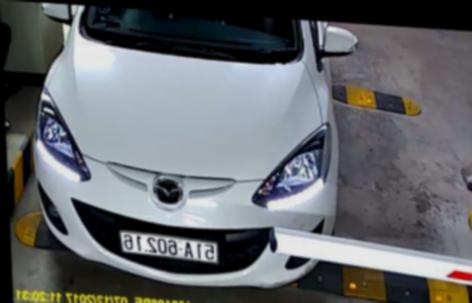License_Plate: (118, 222, 220, 265)
